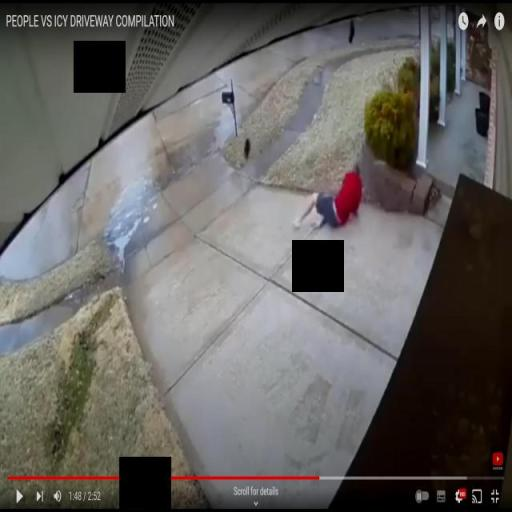Fall: (290, 161, 366, 237)
